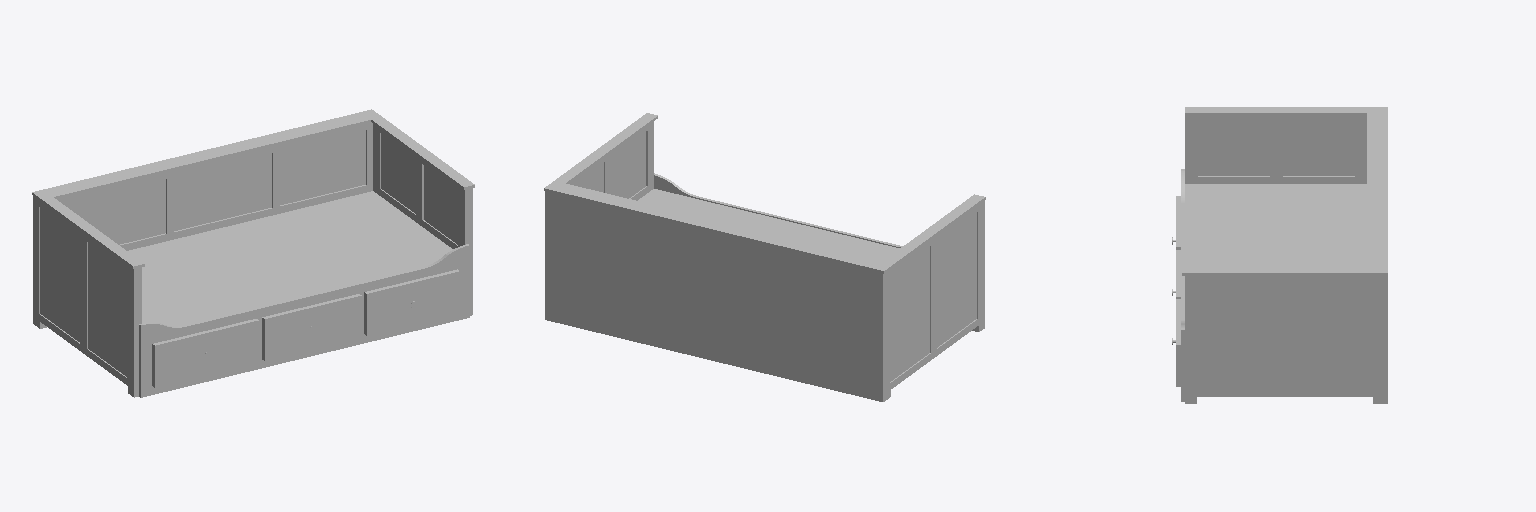
File: DayBed_Hemnes.obj
3 views of the same model, side by side, from view 1: azimuth 30°, elevation 25°; view 2: azimuth 150°, elevation 25°; view 3: azimuth 270°, elevation 25° (orthographic).
Parts seen in each view (by area): view 1: Mesh4 Group_2_1 Group_1_1 Model; view 2: Mesh4 Group_2_1 Group_1_1 Model; view 3: Mesh4 Group_2_1 Group_1_1 Model.
Boxes of the visible parts, x1=… form: Mesh4 Group_2_1 Group_1_1 Model: x1=32, y1=109, x2=474, y2=397; Mesh4 Group_2_1 Group_1_1 Model: x1=544, y1=113, x2=985, y2=401; Mesh4 Group_2_1 Group_1_1 Model: x1=1176, y1=107, x2=1387, y2=403.
Bounding box in the file's own units: 78.64 × 29.03 × 43.21.